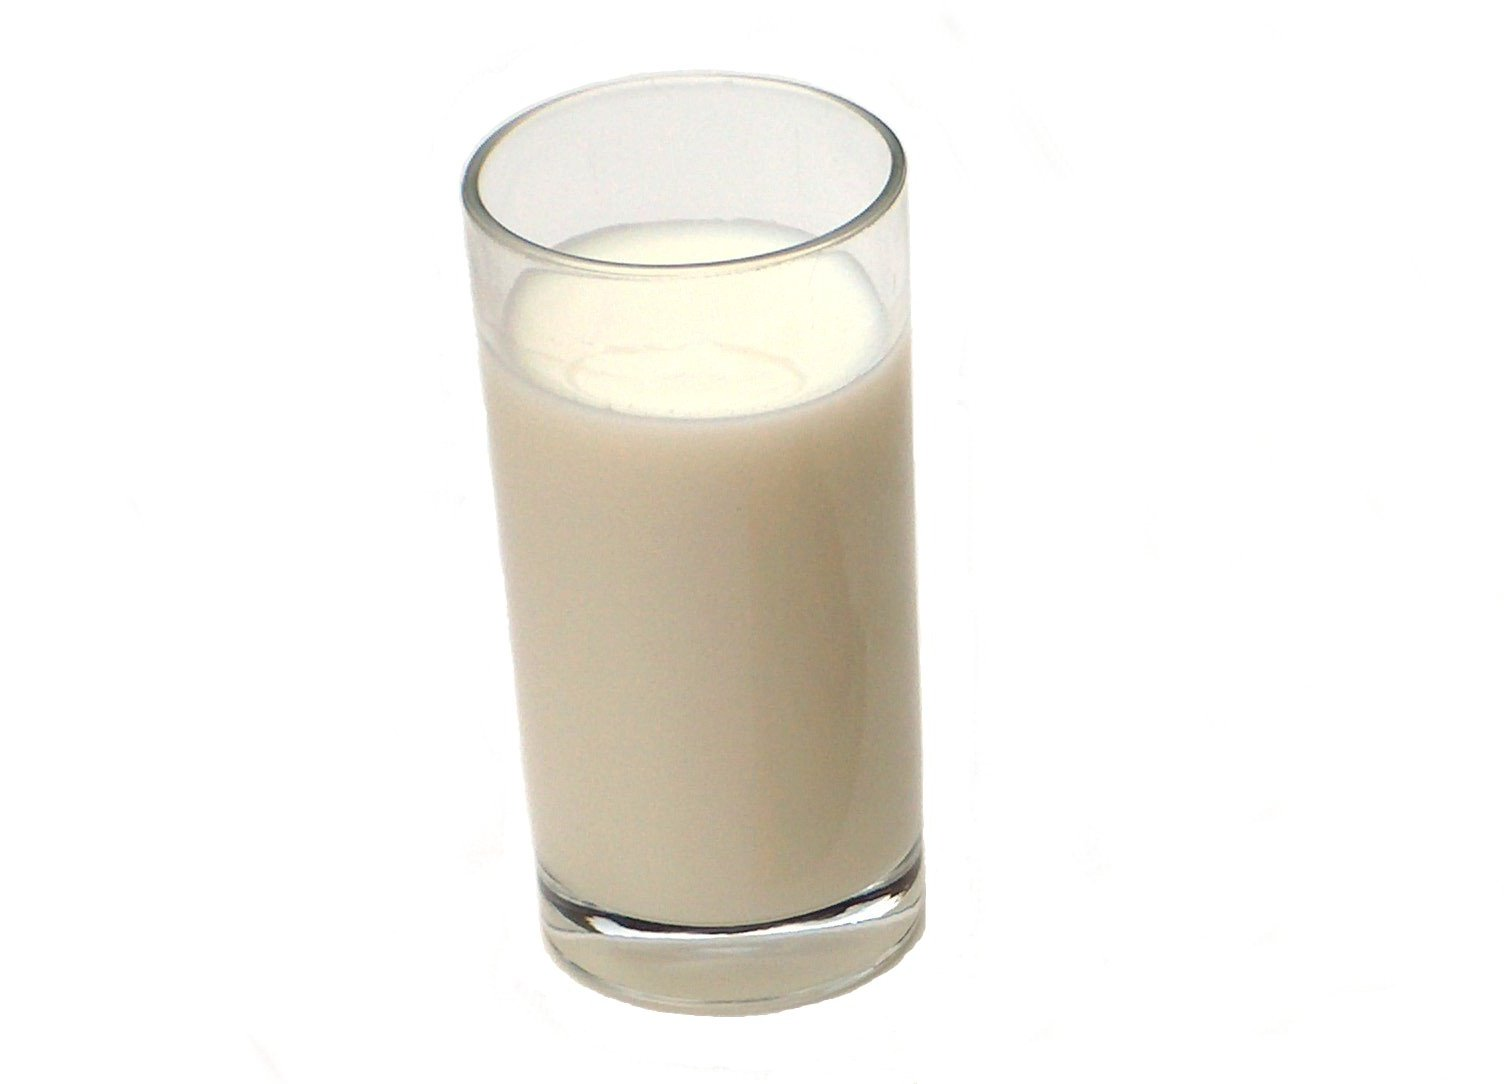glass of milk: (501, 188, 932, 999)
